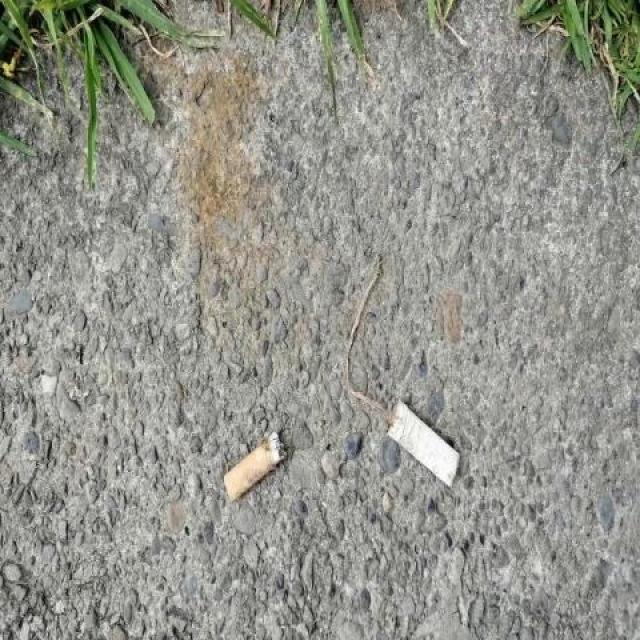non-organic waste: (384, 394, 464, 490), (220, 428, 288, 505)
